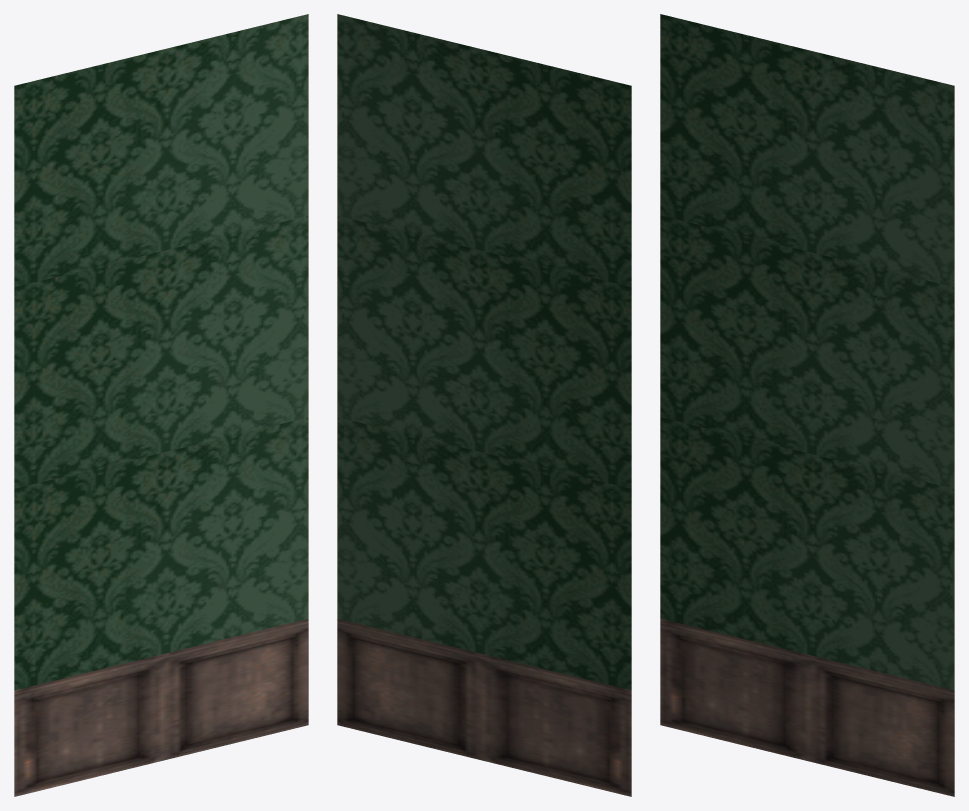
Rendered from WallTile.glb.
3 views of the same model, side by side, from view 1: azimuth 30°, elevation 25°; view 2: azimuth 150°, elevation 25°; view 3: azimuth 330°, elevation 25° (orthographic).
Visible parts, largest first — view 1: Wall 1_Trim_0; view 2: Wall 1_Trim_0; view 3: Wall 1_Trim_0.
Part boxes in pixels (<box>): Wall 1_Trim_0: <box>14,14,308,796</box>; Wall 1_Trim_0: <box>337,14,631,796</box>; Wall 1_Trim_0: <box>660,14,954,796</box>.
Size of the model in its own units: 2.56 by 5.91 by 2.57e-06.
2 materials, 2 textured.
